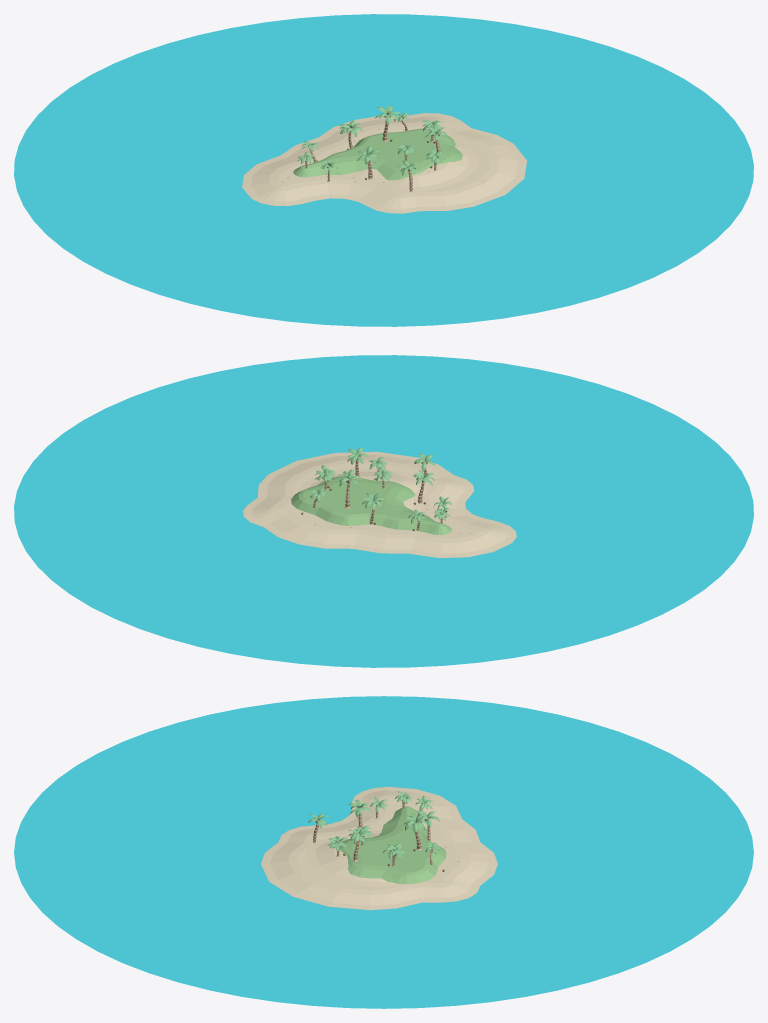
Rendered from Island.glb.
The picture shows the model from 3 angles, top to bottom: view 1: azimuth 30°, elevation 25°; view 2: azimuth 150°, elevation 25°; view 3: azimuth 270°, elevation 25°; orthographic projection.
Visible parts, largest first — view 1: Water_Circle_3_Highpoly__Water Ocean__0__0__1, Terrain_Sand_Incline_Curve_Outer_12x12__Dirt__0__0__1, Terrain_Sand_Incline_Curve_Inner_8x8__Dirt__0__0__1, Terrain_Sand_Incline_Curve_Outer_8x8__Dirt__0__0__2, Terrain_Sand_Incline_Esse_6x6__Dirt__0__1__1, Terrain_Sand_Incline_Curve_Outer_8x8__Dirt__0__0__1, Terrain_Sand_Incline_Esse_6x6__Dirt__0__0__4, Terrain_Sand_Incline_Esse_6x6__Dirt__0__0__3, Terrain_Sand_Incline_Esse_6x6__Dirt__0__0__1, Grass_Hill_Gentle_Curve_Inner_4x4__Grass__0__0__1, Terrain_Sand_Incline_Esse_6x6__Dirt__0__1__3, Grass_Flat_1x1__Grass__2__0__1 (+3 smaller); view 2: Water_Circle_3_Highpoly__Water Ocean__0__0__1, Terrain_Sand_Incline_Curve_Outer_8x8__Dirt__0__0__2, Terrain_Sand_Incline_Curve_Outer_12x12__Dirt__0__0__1, Terrain_Sand_Incline_Curve_Inner_8x8__Dirt__0__0__1, Terrain_Sand_Incline_Esse_6x6__Dirt__0__0__3, Terrain_Sand_Incline_Esse_6x6__Dirt__0__0__1, Terrain_Sand_Incline_Esse_6x6__Dirt__0__1__3, Terrain_Sand_Incline_Esse_6x6__Dirt__0__0__4, Terrain_Sand_Incline_Esse_6x6__Dirt__0__1__1, Grass_Flat_1x1__Grass__2__0__1, Terrain_Sand_Incline_Curve_Outer_8x8__Dirt__0__0__1, Grass_Hill_Sharp_Esse_4x4__Grass__0__0__1 (+1 smaller); view 3: Water_Circle_3_Highpoly__Water Ocean__0__0__1, Terrain_Sand_Incline_Curve_Outer_12x12__Dirt__0__0__1, Terrain_Sand_Incline_Esse_6x6__Dirt__0__0__4, Terrain_Sand_Incline_Curve_Outer_8x8__Dirt__0__0__2, Terrain_Sand_Incline_Esse_6x6__Dirt__0__1__3, Terrain_Sand_Incline_Curve_Outer_8x8__Dirt__0__0__1, Terrain_Sand_Incline_Curve_Inner_8x8__Dirt__0__0__1, Terrain_Sand_Incline_Esse_6x6__Dirt__0__0__1, Terrain_Sand_Incline_Esse_6x6__Dirt__0__0__3, Terrain_Sand_Incline_Esse_6x6__Dirt__0__1__1, Grass_Flat_1x1__Grass__2__0__1, Grass_Flat_1x1__Grass__2__0__5 (+2 smaller).
Boxes of the visible parts, box(x1,y1,x2,y2) form: Water_Circle_3_Highpoly__Water Ocean__0__0__1: box(14, 14, 753, 326); Terrain_Sand_Incline_Curve_Outer_12x12__Dirt__0__0__1: box(450, 143, 526, 206); Terrain_Sand_Incline_Curve_Inner_8x8__Dirt__0__0__1: box(299, 173, 397, 205); Terrain_Sand_Incline_Curve_Outer_8x8__Dirt__0__0__2: box(242, 156, 313, 198); Terrain_Sand_Incline_Esse_6x6__Dirt__0__1__1: box(399, 185, 472, 211); Terrain_Sand_Incline_Curve_Outer_8x8__Dirt__0__0__1: box(425, 146, 478, 187); Terrain_Sand_Incline_Esse_6x6__Dirt__0__0__4: box(441, 127, 512, 149); Terrain_Sand_Incline_Esse_6x6__Dirt__0__0__3: box(278, 138, 340, 165); Terrain_Sand_Incline_Esse_6x6__Dirt__0__0__1: box(316, 120, 378, 147); Grass_Hill_Gentle_Curve_Inner_4x4__Grass__0__0__1: box(337, 153, 398, 174); Terrain_Sand_Incline_Esse_6x6__Dirt__0__1__3: box(355, 115, 427, 133); Grass_Flat_1x1__Grass__2__0__1: box(381, 142, 432, 165); Water_Circle_3_Highpoly__Water Ocean__0__0__1: box(14, 355, 753, 667); Terrain_Sand_Incline_Curve_Outer_8x8__Dirt__0__0__2: box(413, 523, 511, 557); Terrain_Sand_Incline_Curve_Outer_12x12__Dirt__0__0__1: box(268, 451, 417, 480); Terrain_Sand_Incline_Curve_Inner_8x8__Dirt__0__0__1: box(418, 485, 482, 526); Terrain_Sand_Incline_Esse_6x6__Dirt__0__0__3: box(356, 526, 430, 554); Terrain_Sand_Incline_Esse_6x6__Dirt__0__0__1: box(299, 521, 373, 549); Terrain_Sand_Incline_Esse_6x6__Dirt__0__1__3: box(261, 508, 325, 544); Terrain_Sand_Incline_Esse_6x6__Dirt__0__0__4: box(257, 474, 308, 501); Terrain_Sand_Incline_Esse_6x6__Dirt__0__1__1: box(394, 457, 455, 484); Grass_Flat_1x1__Grass__2__0__1: box(334, 481, 390, 500); Terrain_Sand_Incline_Curve_Outer_8x8__Dirt__0__0__1: box(304, 468, 402, 484); Grass_Hill_Sharp_Esse_4x4__Grass__0__0__1: box(341, 510, 387, 525); Water_Circle_3_Highpoly__Water Ocean__0__0__1: box(14, 696, 753, 1008); Terrain_Sand_Incline_Curve_Outer_12x12__Dirt__0__0__1: box(261, 859, 370, 909); Terrain_Sand_Incline_Esse_6x6__Dirt__0__0__4: box(370, 883, 424, 910); Terrain_Sand_Incline_Curve_Outer_8x8__Dirt__0__0__2: box(388, 787, 461, 817); Terrain_Sand_Incline_Esse_6x6__Dirt__0__1__3: box(443, 859, 497, 886); Terrain_Sand_Incline_Curve_Outer_8x8__Dirt__0__0__1: box(306, 852, 379, 886); Terrain_Sand_Incline_Curve_Inner_8x8__Dirt__0__0__1: box(315, 805, 388, 836); Terrain_Sand_Incline_Esse_6x6__Dirt__0__0__1: box(443, 836, 497, 863); Terrain_Sand_Incline_Esse_6x6__Dirt__0__0__3: box(425, 813, 479, 840); Terrain_Sand_Incline_Esse_6x6__Dirt__0__1__1: box(261, 836, 313, 863); Grass_Flat_1x1__Grass__2__0__1: box(361, 842, 397, 861); Grass_Flat_1x1__Grass__2__0__5: box(397, 834, 415, 868).
Size of the model in its own units: 81.06 by 5.51 by 81.06.
